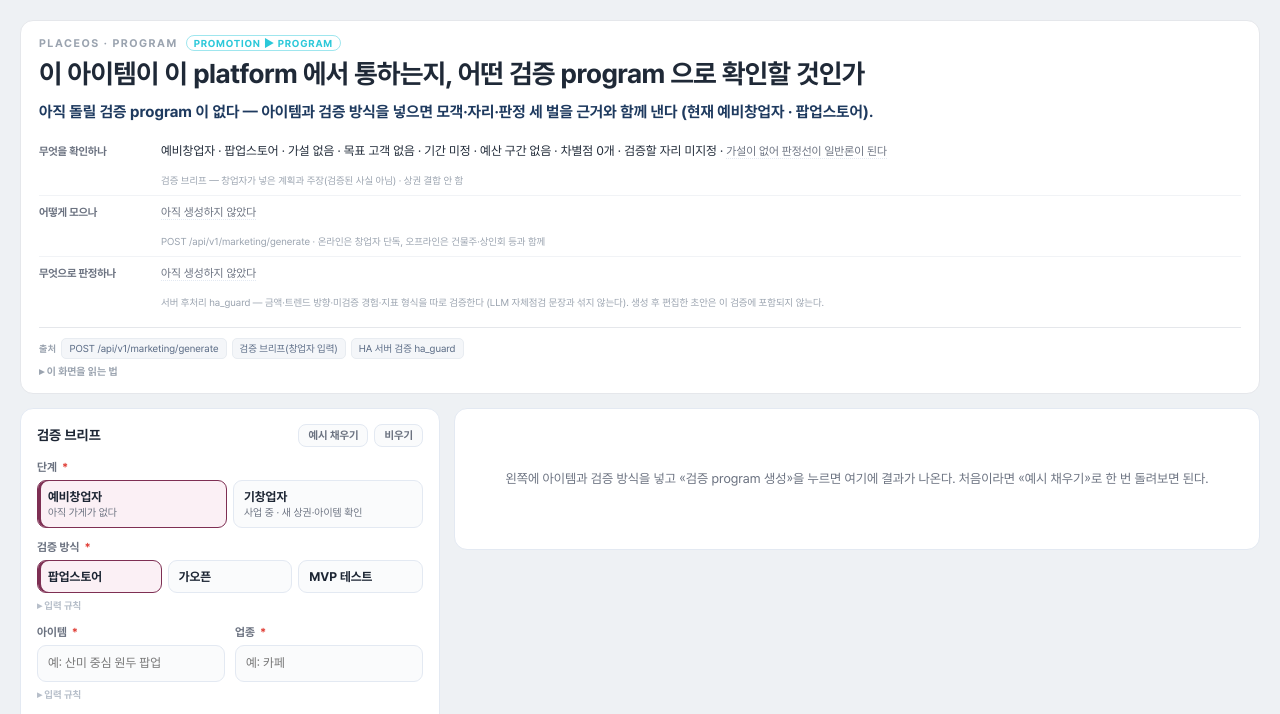
ProgramStudio — 검증 브리프 › 아이템이나 업종이 비면 생성 버튼이 꺼져 있다
In the field with placeholder "예: 산미 중심 원두 팝업": [131, 664] box 37,645 -> 225,682, type "원두"
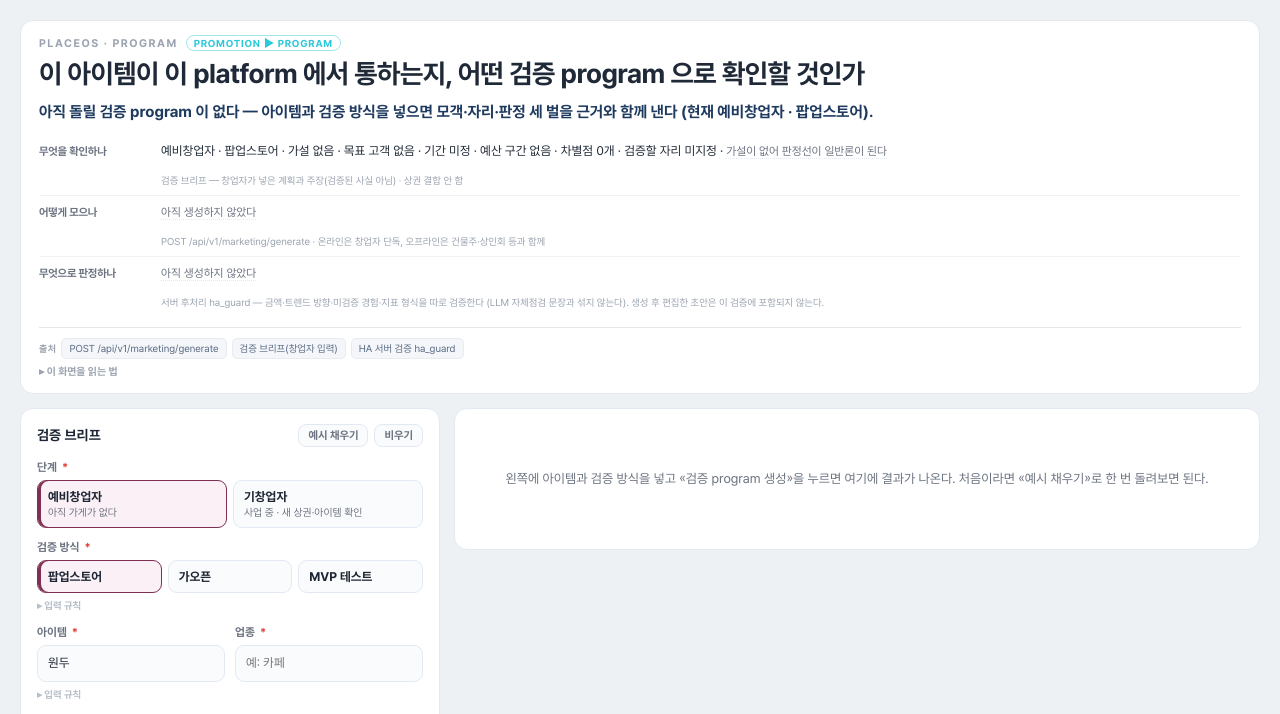
In the field with placeholder "예: 카페": [329, 664] box 235,645 -> 423,682, type "카페"
(page scrolled)
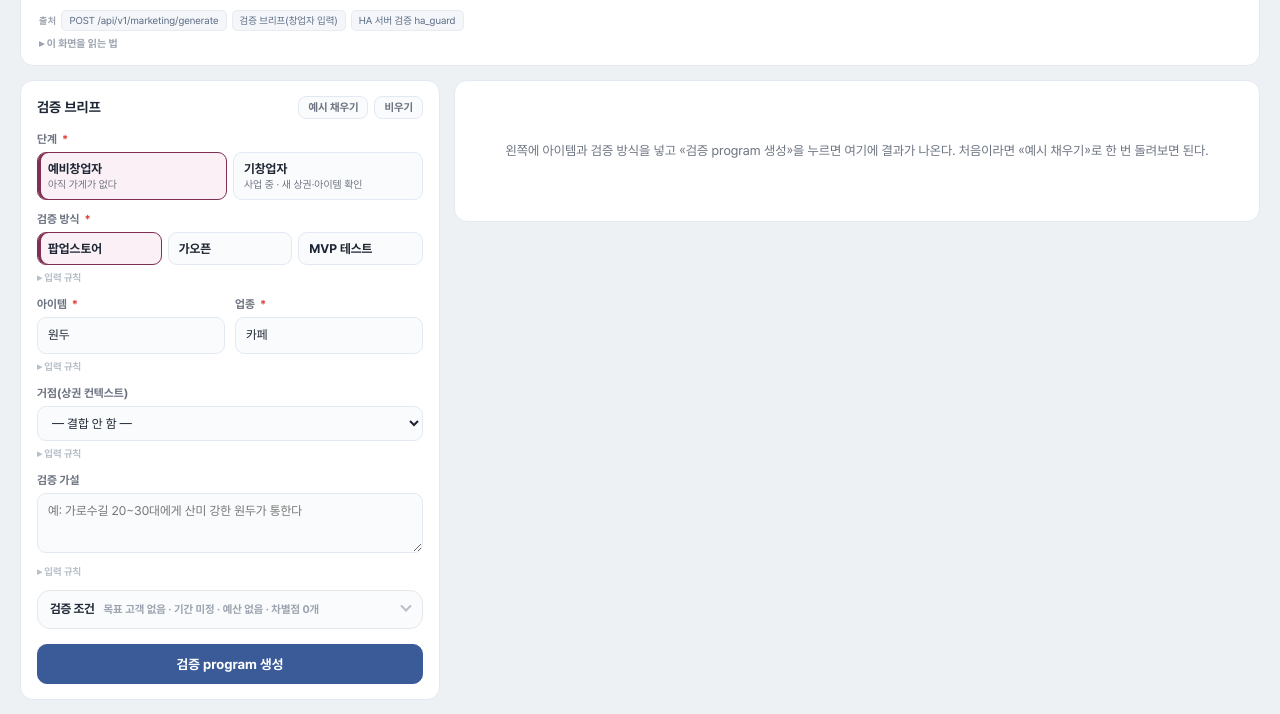
Expected: the button "검증 program 생성" is enabled, 37,644 -> 423,684
